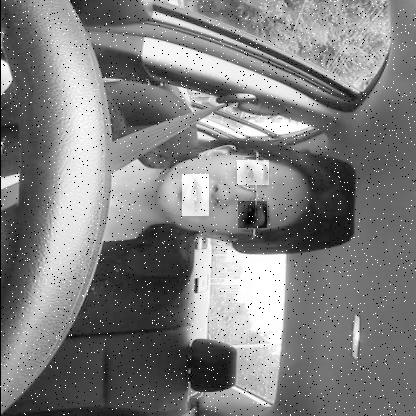seatbelt: (0, 109, 344, 241)
